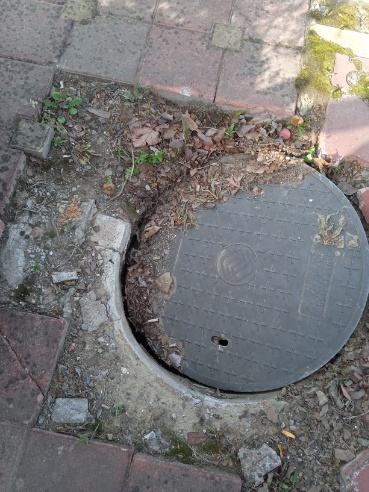well: (107, 157, 369, 403)
